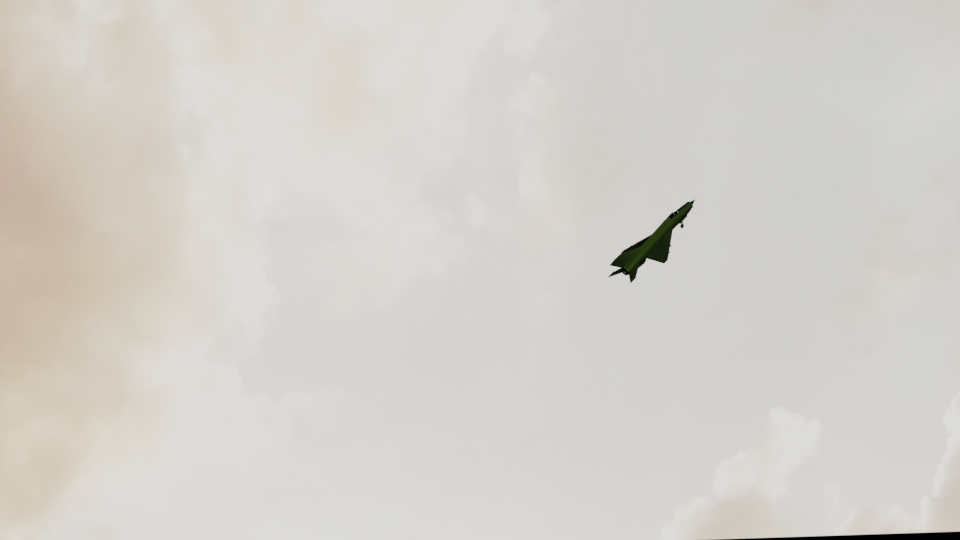plane: (605, 196, 693, 283)
